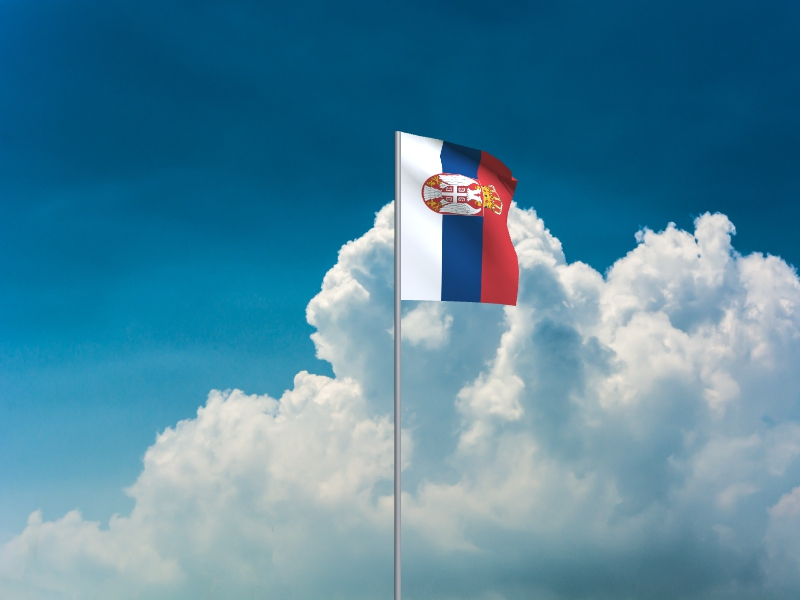rs: (401, 133, 520, 307)
